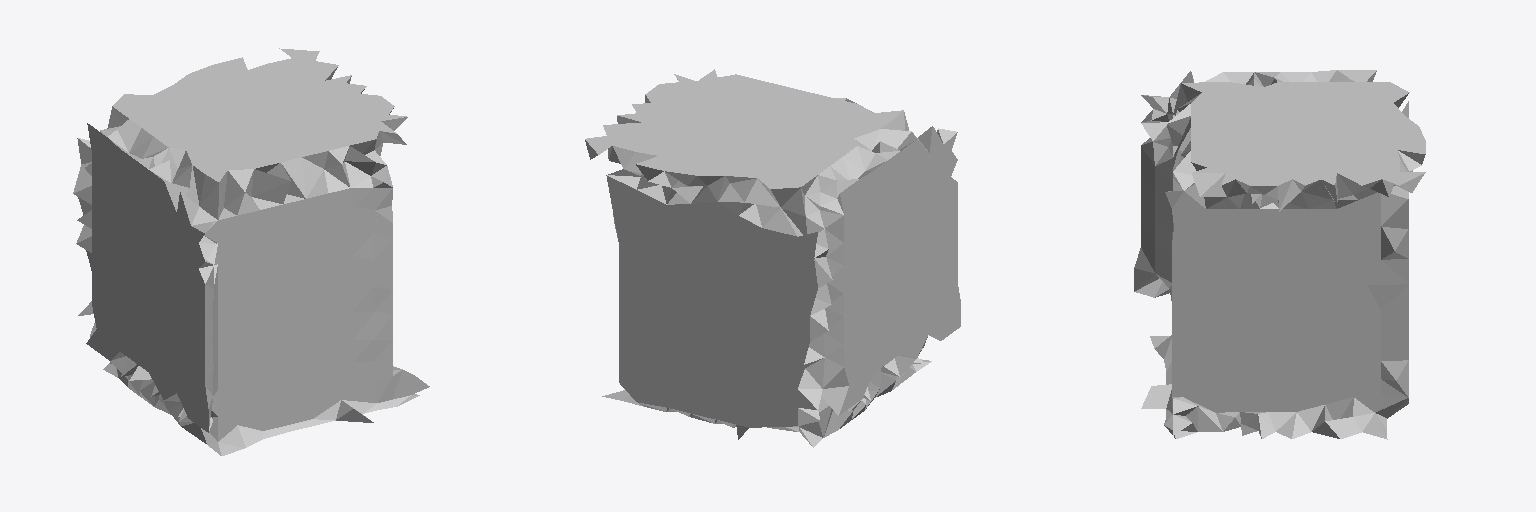
Rendered from cube_soup.obj__sf.obj.
The picture shows the model from 3 angles: view 1: azimuth 30°, elevation 25°; view 2: azimuth 150°, elevation 25°; view 3: azimuth 270°, elevation 25°; orthographic projection.
Bounding box in the file's own units: 1.17 × 1.18 × 1.19.